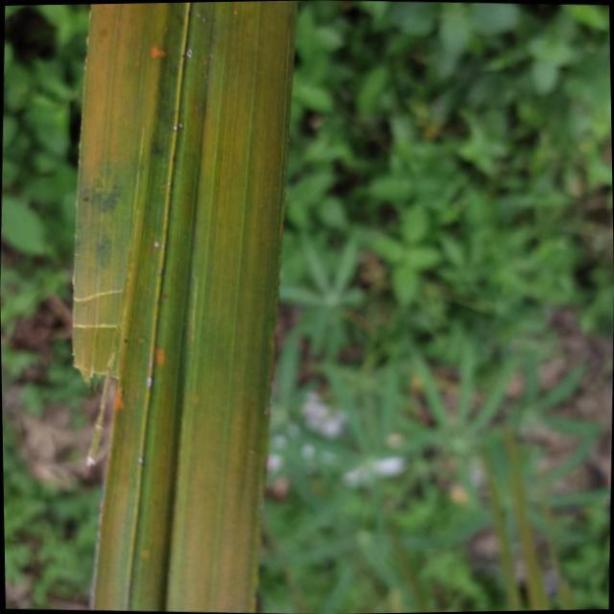Megnesium: (70, 0, 296, 614)
